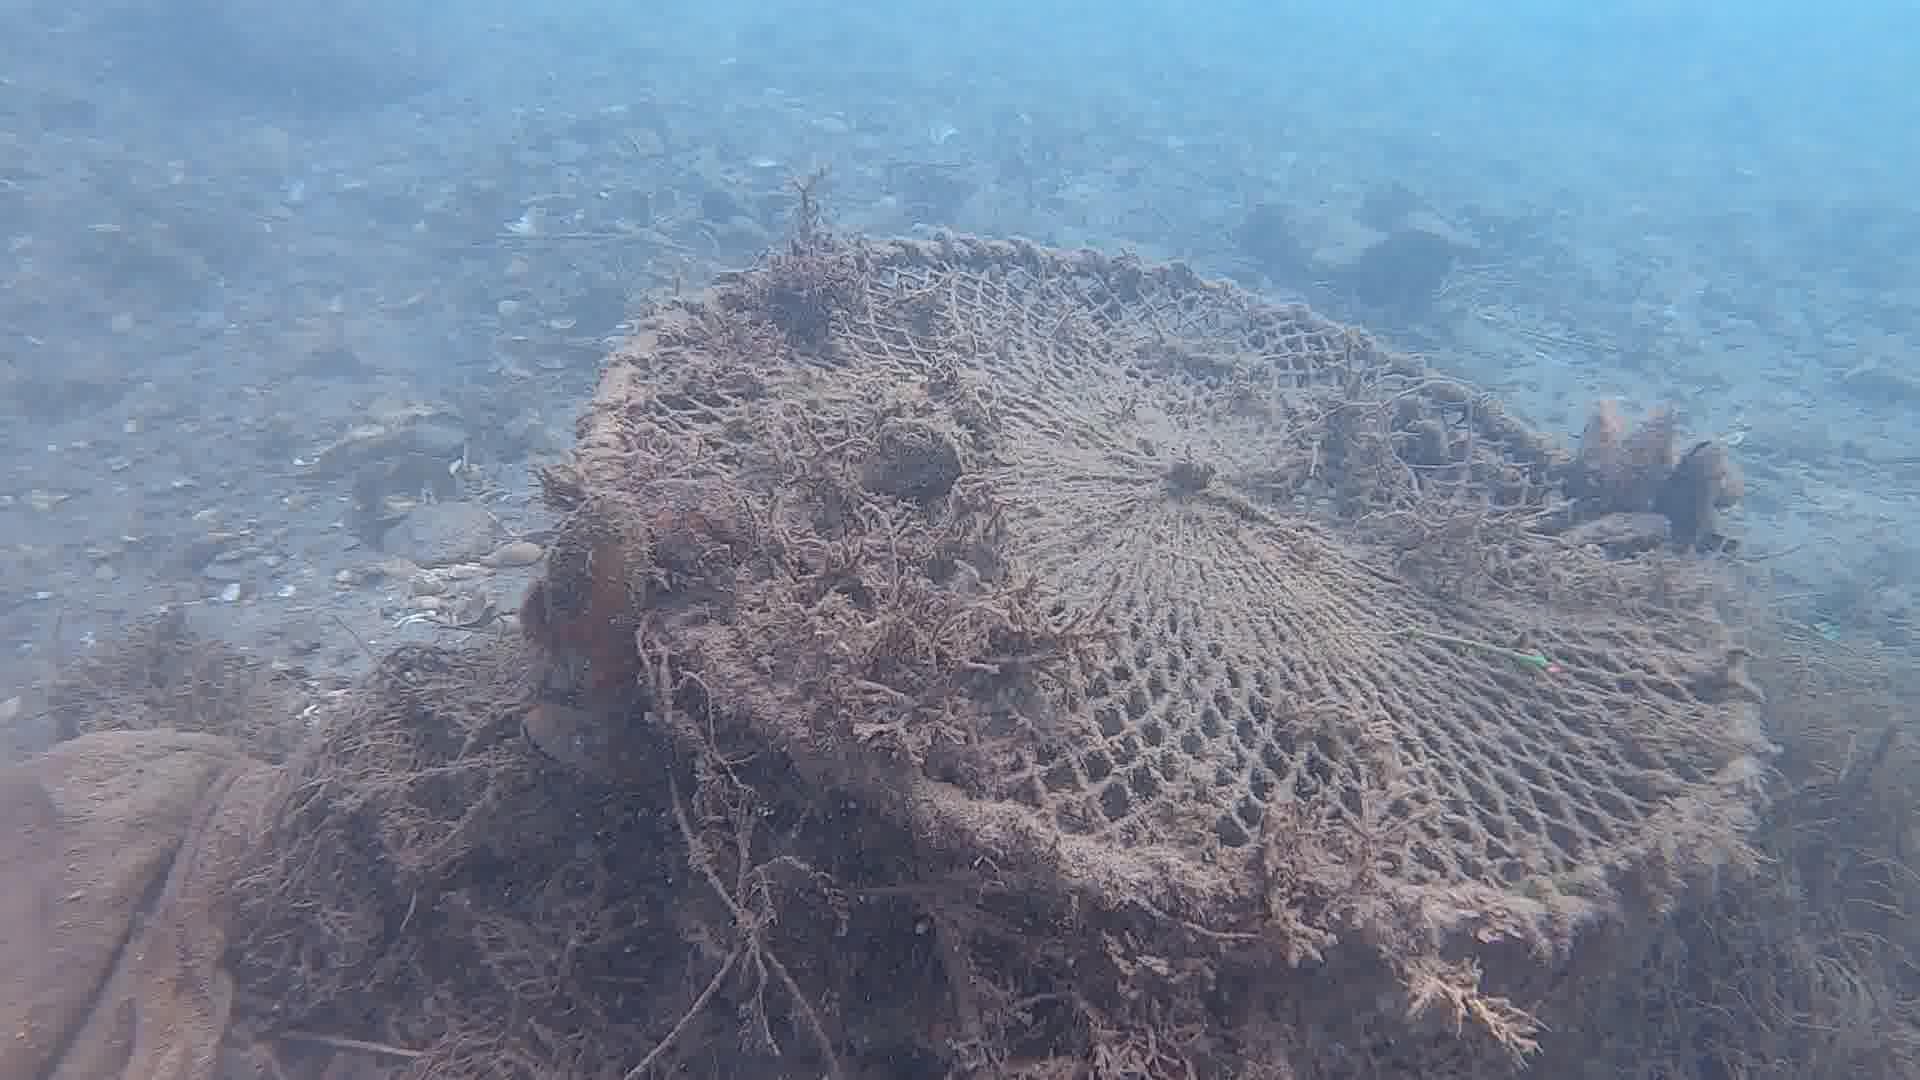circular fish trap: (579, 223, 1772, 1080)
